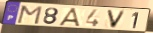1: (131, 12, 140, 30)
4: (85, 9, 100, 28)
8: (42, 7, 60, 25)
A: (58, 7, 83, 28)
M: (16, 5, 44, 26)
V: (106, 9, 128, 29)
